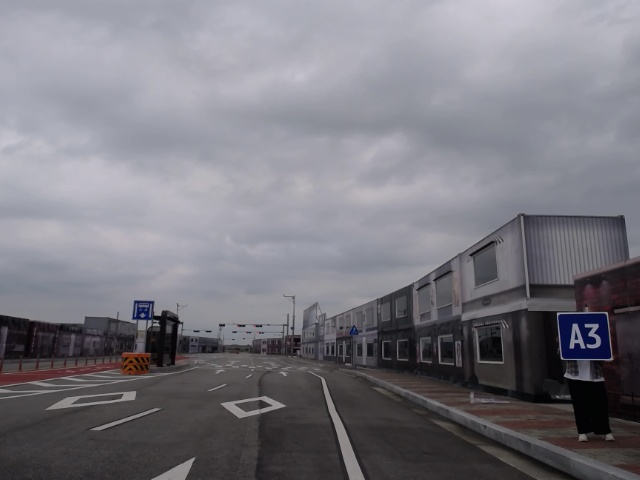delivery_a3: (557, 312, 612, 360)
